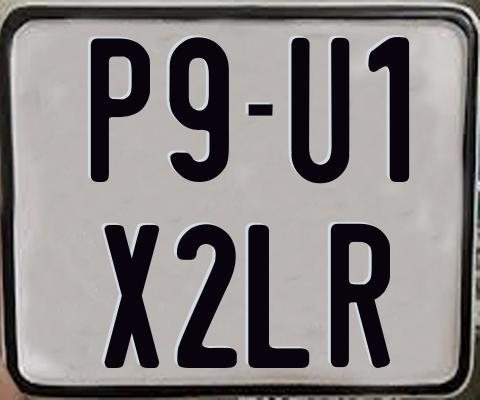1: (368, 34, 413, 181)
2: (176, 224, 237, 374)
9: (169, 34, 229, 182)
L: (247, 222, 310, 365)
P: (89, 35, 154, 180)
R: (330, 222, 391, 366)
U: (288, 37, 347, 185)
X: (104, 225, 159, 368)
